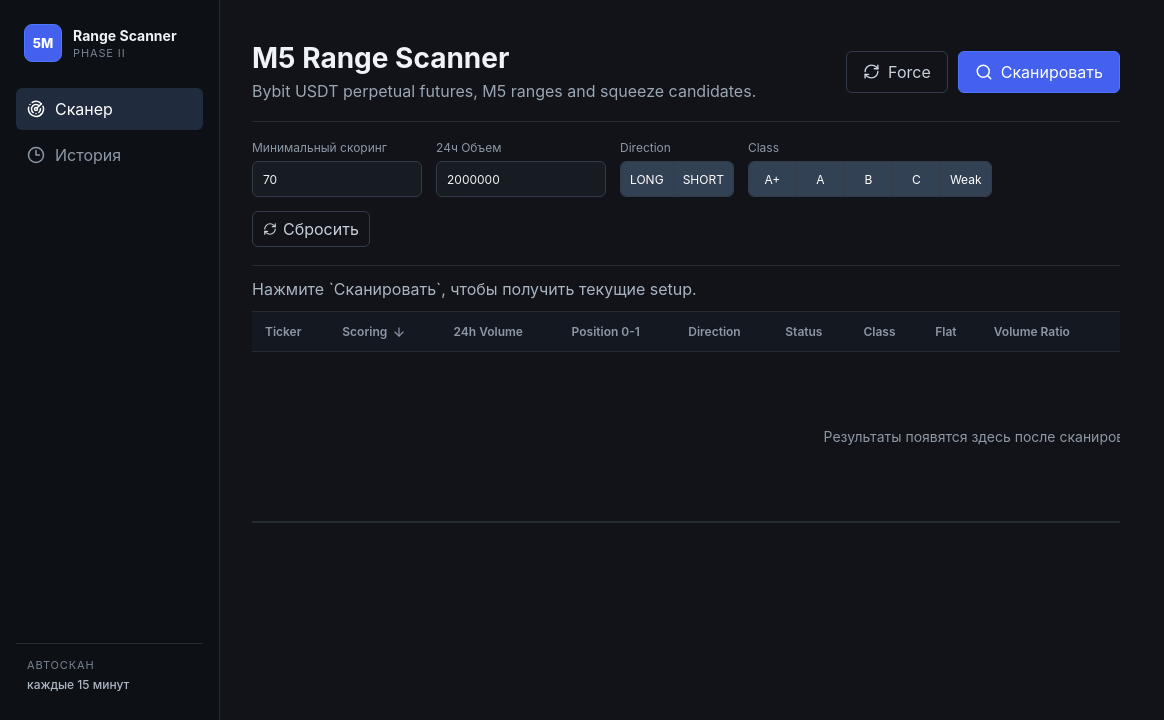
Test: App › opens history, shows outcomes and exposes the filtered XLSX export
Click the button "История".
click(110, 155)  # box x1=16 y1=134 x2=203 y2=176
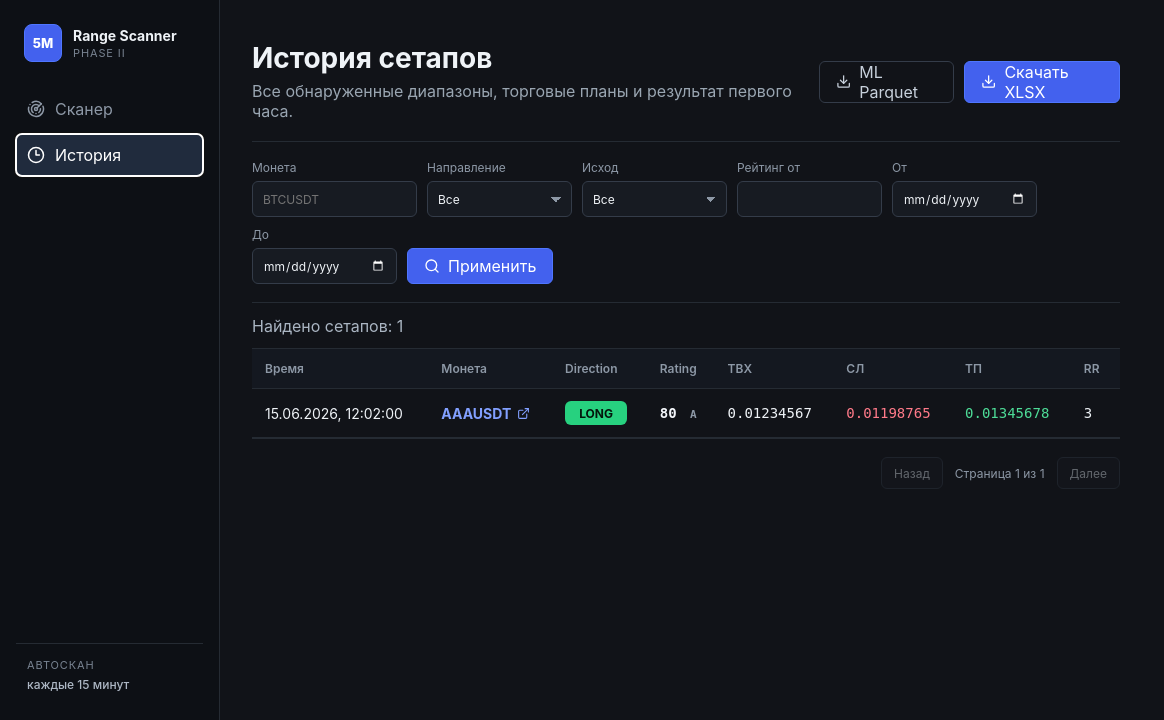
Now the link "AAAUSDT" is shown, box x1=441 y1=405 x2=530 y2=422
Now the text "0.01234567" is shown, box x1=728 y1=405 x2=812 y2=421
Now the text "0.01198765" is shown, box x1=846 y1=405 x2=931 y2=421
